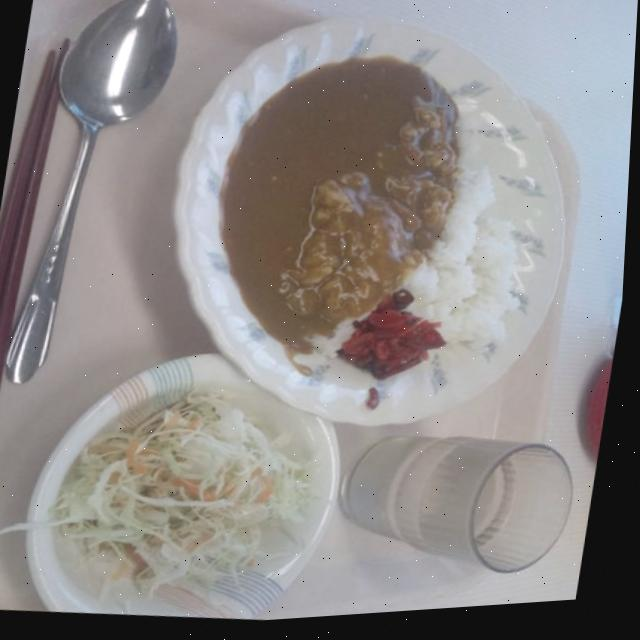牛肉菜式: (187, 24, 579, 421)
蔬菜料理: (52, 364, 346, 636)
